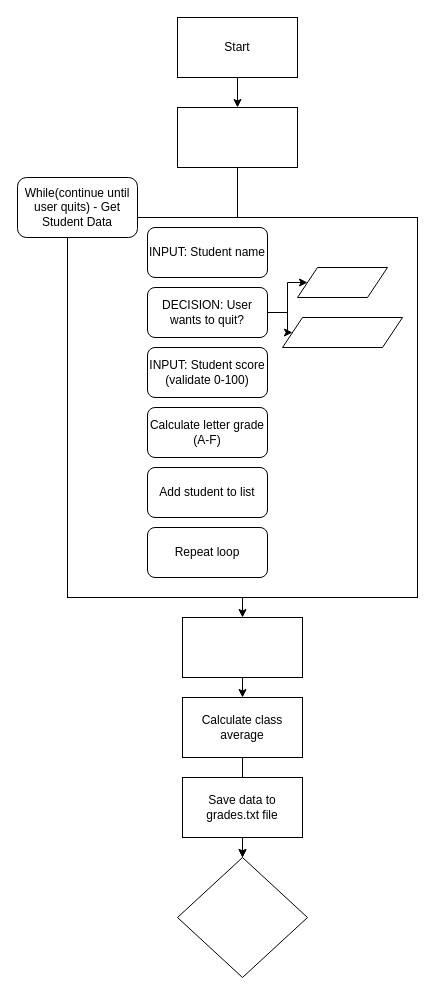
The diagram is 435 pixels wide and 995 high, and some of its shapes have lost their labels. Here are the shapes that lost their labels. From the top down, the box of each, then its label:
(176, 106, 298, 168): Display Welcome message
(296, 266, 388, 298): YES → Exit loop
(282, 316, 402, 348): NO → Continue
(182, 616, 302, 678): Display all students
(176, 856, 308, 978): End
